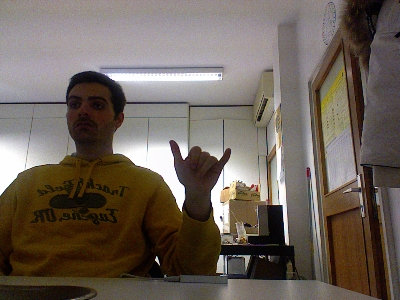六六六: (167, 138, 232, 195)
